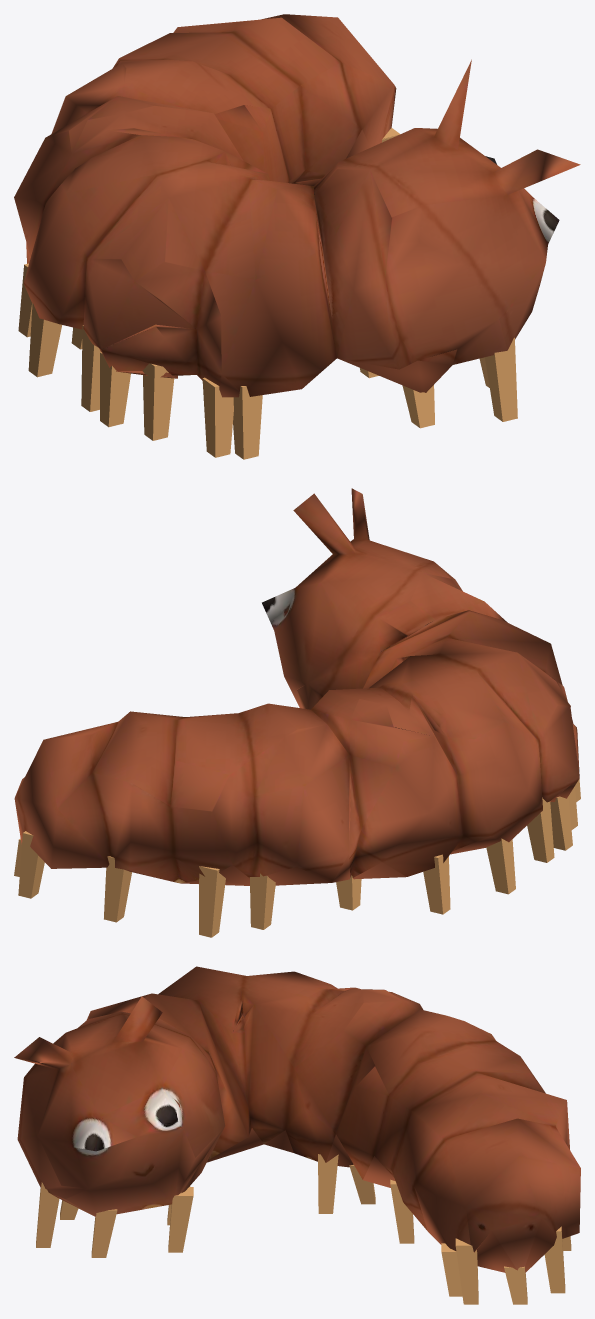
Rendered from toad-millipede.glb.
3 views of the same model, one above another, from view 1: azimuth 30°, elevation 25°; view 2: azimuth 150°, elevation 25°; view 3: azimuth 270°, elevation 25° (orthographic). The views are drawn at different scales.
Parts seen in each view (by area): view 1: lo; view 2: lo; view 3: lo.
Part boxes in pixels (box(x1,y1,x2,y2)): lo: box(14, 14, 580, 459); lo: box(14, 488, 580, 937); lo: box(14, 966, 580, 1304).
Size of the model in its own units: 0.0506 by 0.0312 by 0.062.
Materials: 1 (1 with a texture image).
